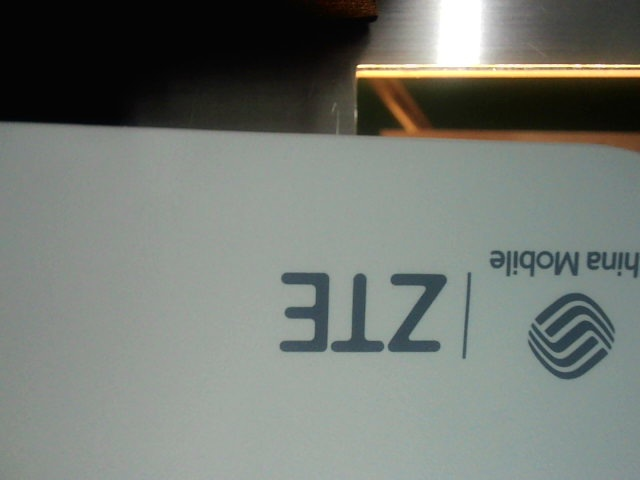AL_ZTEChinaMobile: (264, 237, 637, 380)
